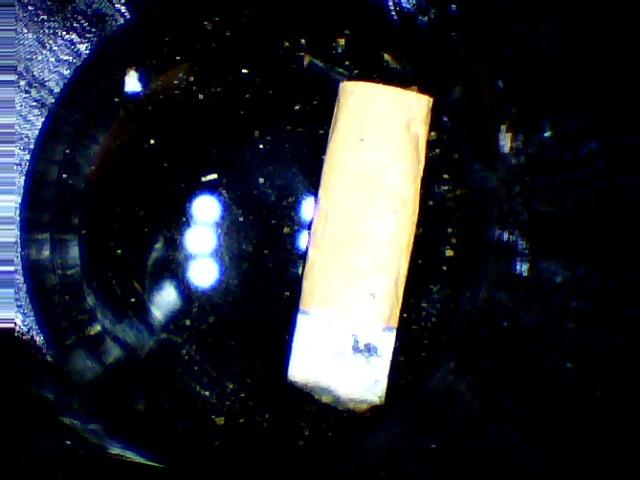megot: (266, 70, 443, 417)
